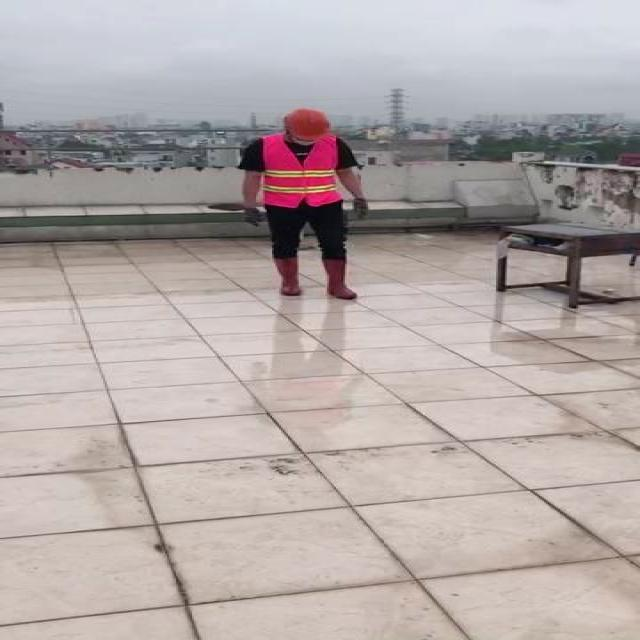boots: (320, 256, 356, 299), (272, 255, 302, 298)
hand_glove: (240, 204, 261, 228), (348, 199, 368, 222)
head_helmet: (282, 107, 332, 142)
person: (234, 103, 378, 305)
vest: (258, 135, 343, 207)
